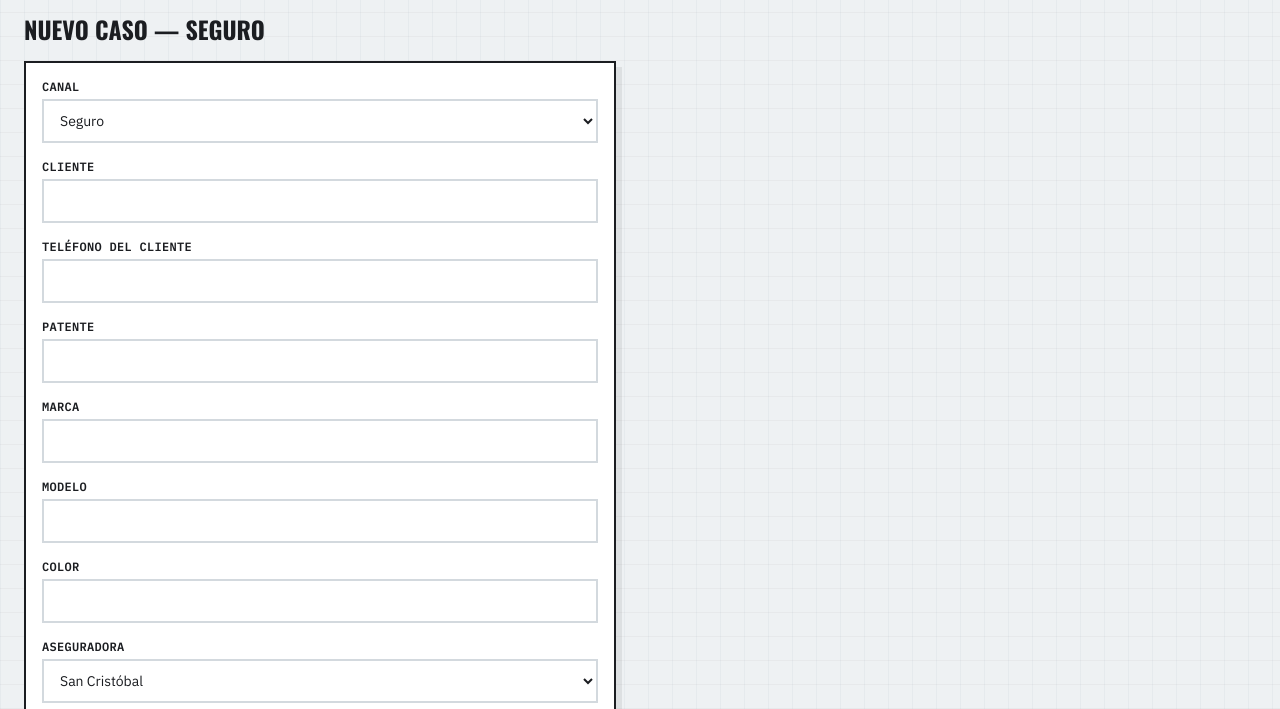
it: CasoNuevoPage › para Particular muestra presupuesto, oculta seguro y exige un monto mayor que cero
The width and height of the screenshot is (1280, 709).
Select "Particular" in the dropdown labelled "Canal" at [320, 121], box [42,99,598,143]
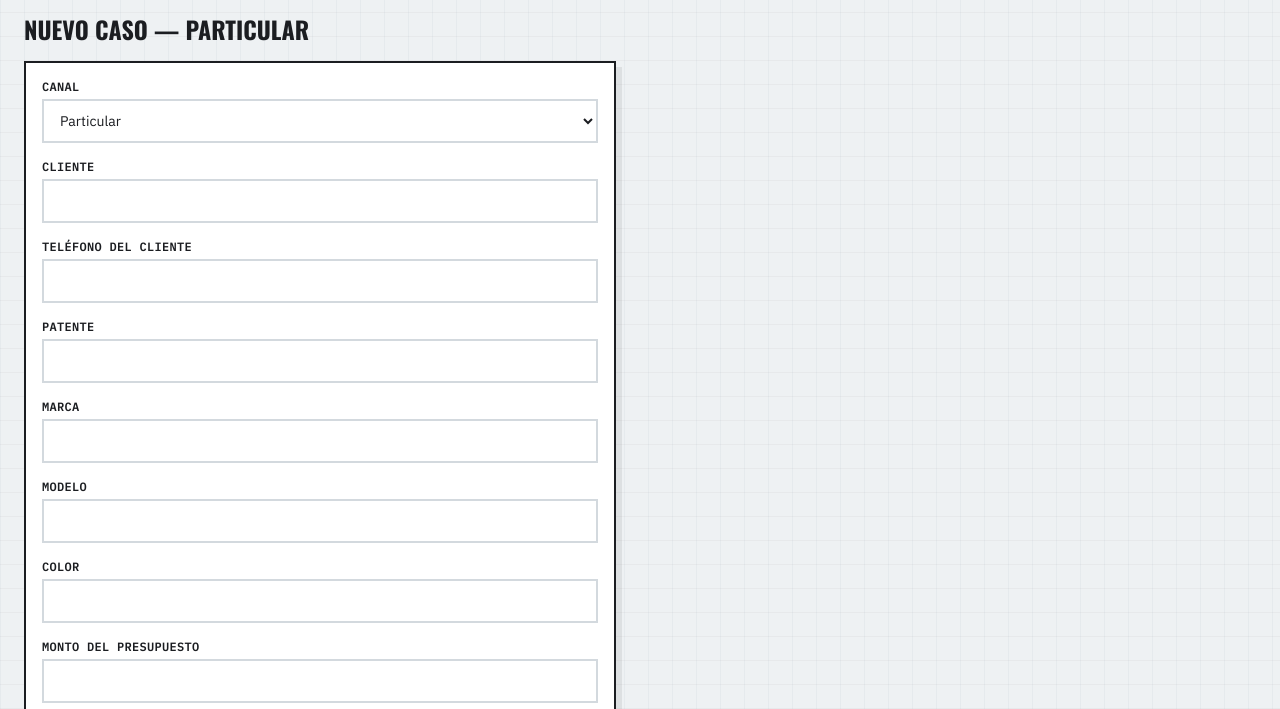
Check: the label labelled "Aseguradora" is gone
Check: the number field labelled "Monto del presupuesto" is shown, box [42,659,598,703]
Type "Ana Gómez" into the field labelled "Cliente".
click(320, 201); type("Ana Gómez")  # box [42,179,598,223]
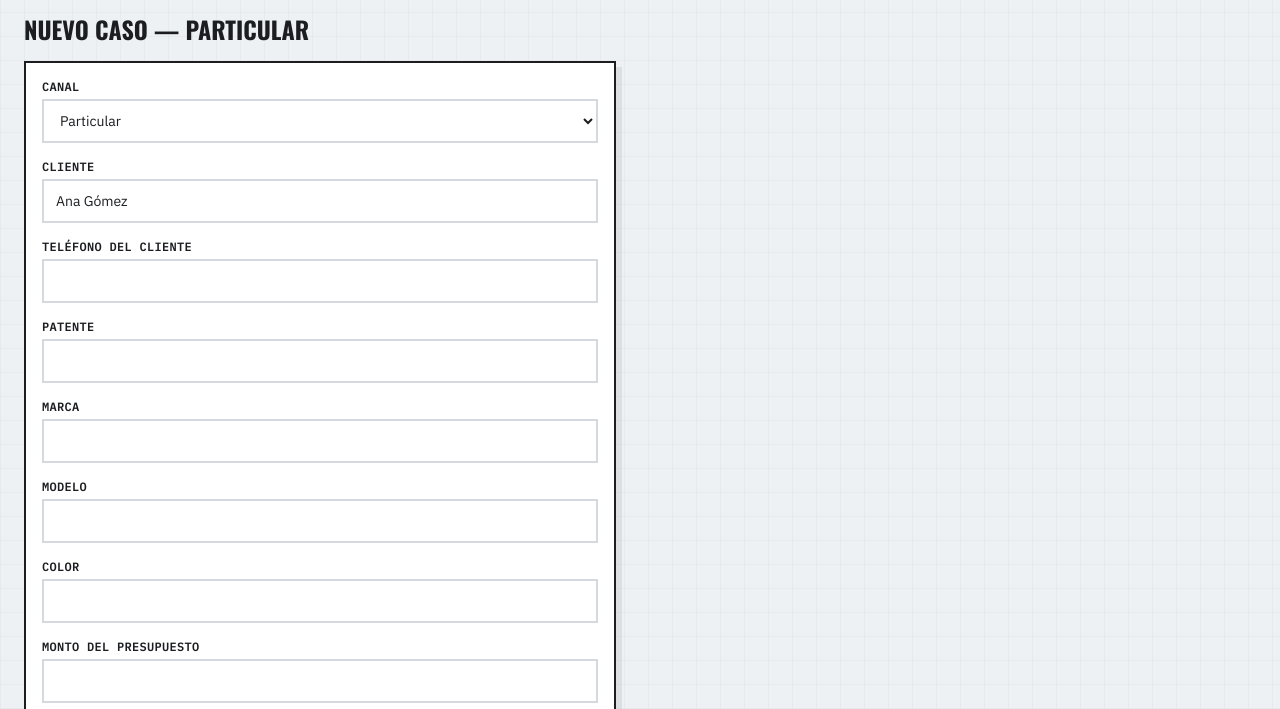
Type "1199887766" into the field labelled "Teléfono del cliente".
click(320, 281); type("1199887766")  # box [42,259,598,303]
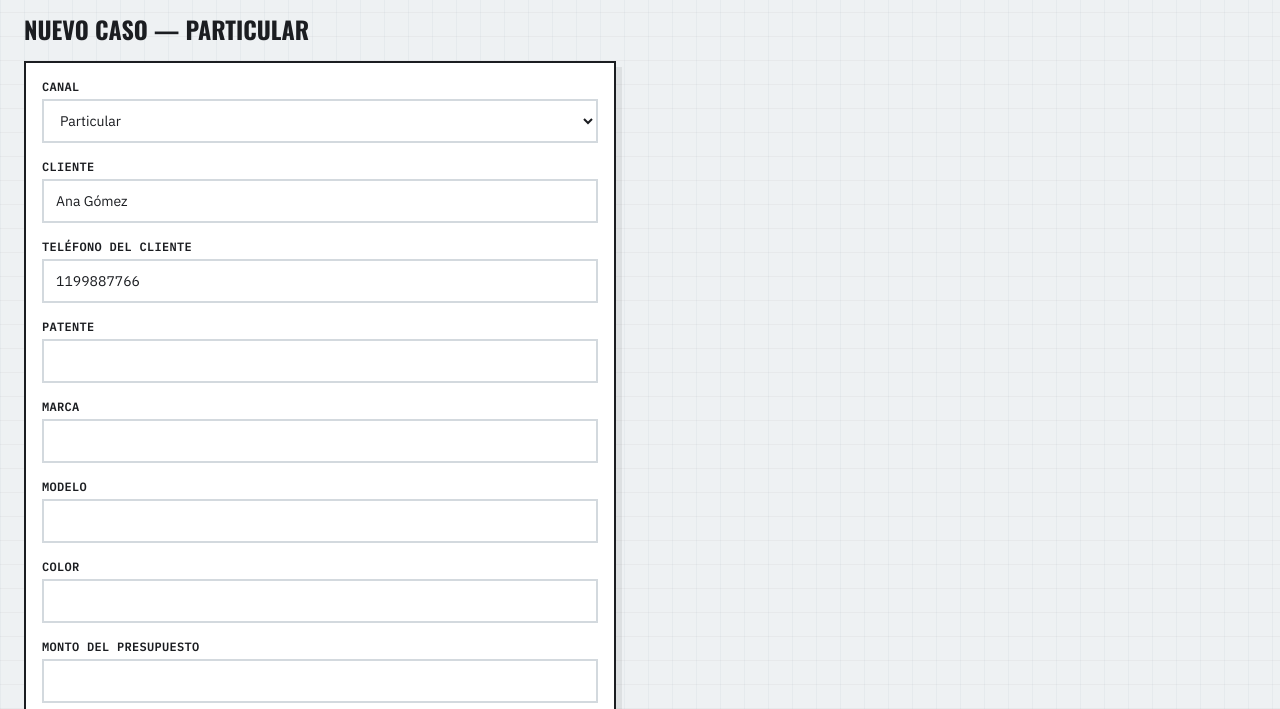
Type "AC456DE" into the field labelled "Patente".
click(320, 361); type("AC456DE")  # box [42,339,598,383]
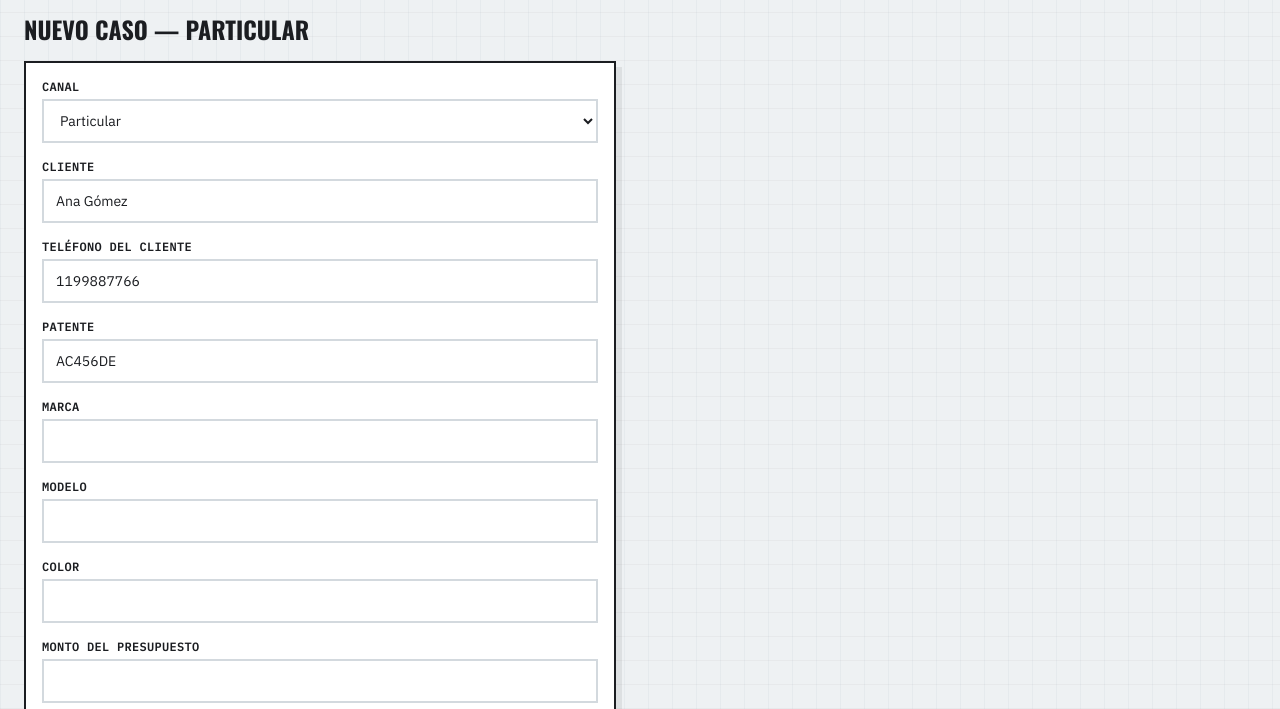
Type "0" into the number field labelled "Monto del presupuesto".
click(320, 681); type("0")  # box [42,659,598,703]
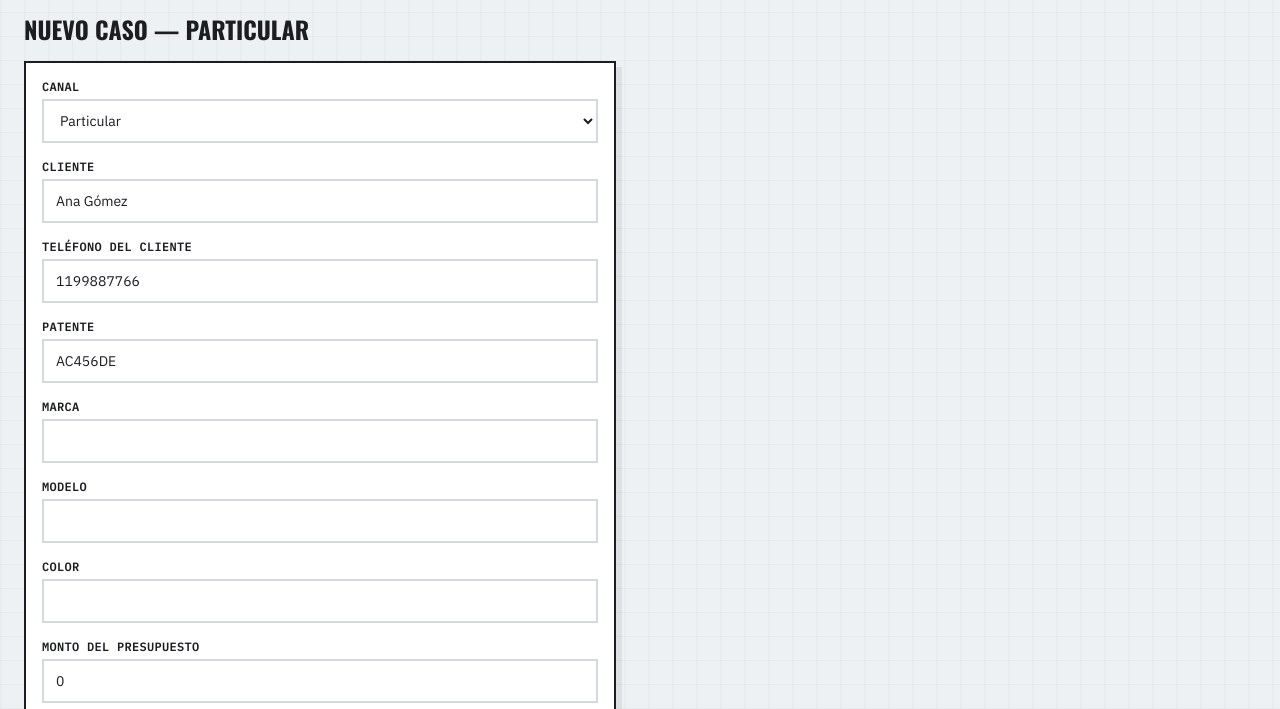
Replace the text in the number field labelled "Monto del presupuesto" with "125000.50" at [320, 681], box [42,659,598,703]
(page scrolled)
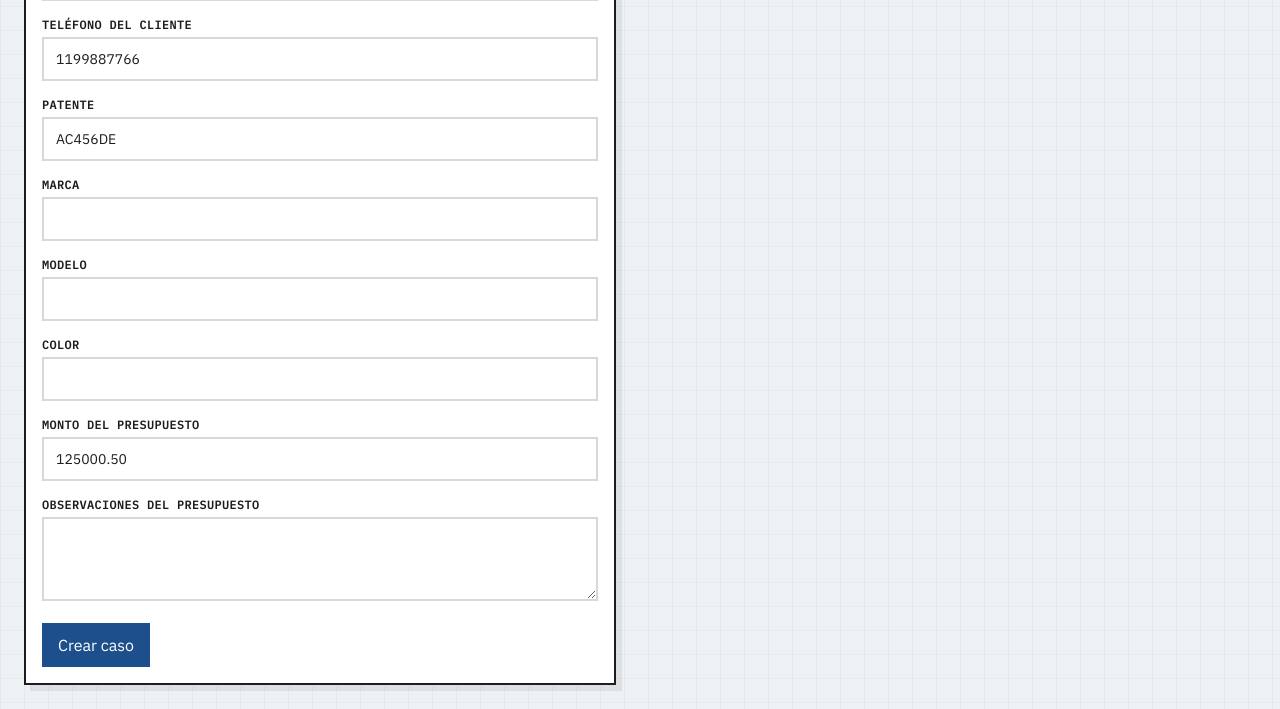
Check: the button "Crear caso" is enabled, box [42,623,150,667]
